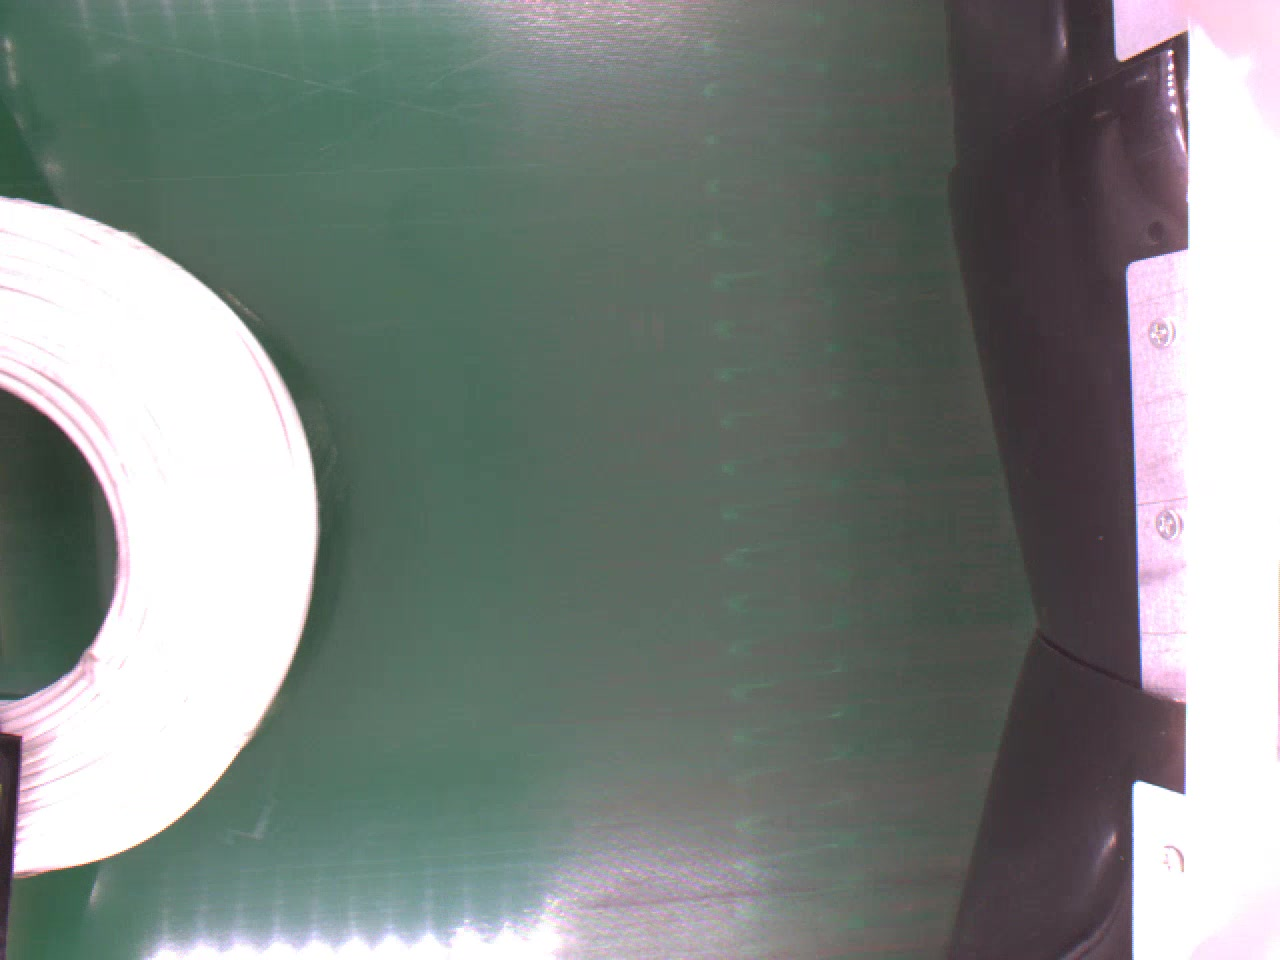white: (0, 198, 322, 873)
